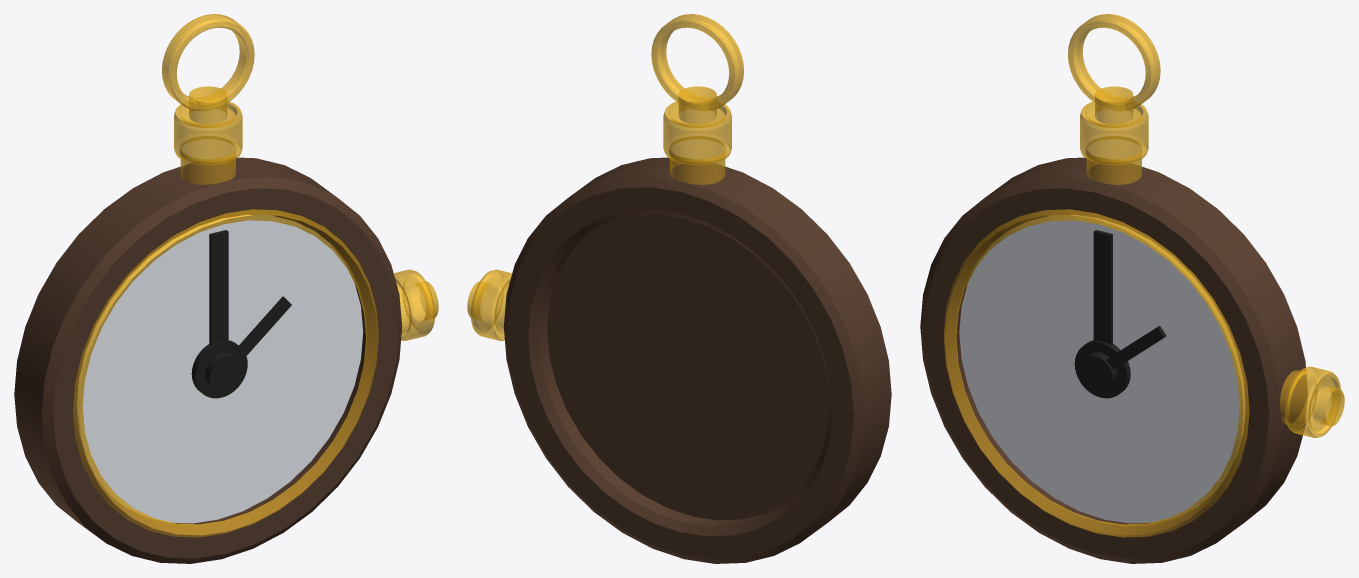
Rendered from relogio.fbx.
The picture shows the model from 3 angles, left to right: view 1: azimuth 30°, elevation 25°; view 2: azimuth 150°, elevation 25°; view 3: azimuth 330°, elevation 25°; orthographic projection.
Visible parts, largest first — view 1: Cylinder, Cylinder_3, Cylinder_1, Cylinder_2_2, Cylinder_2, Plane_2, Cylinder_4_2, Cylinder_4, Plane; view 2: Cylinder, Cylinder_1, Cylinder_2_2, Cylinder_2; view 3: Cylinder, Cylinder_3, Cylinder_1, Cylinder_2_2, Cylinder_2, Plane_2, Cylinder_4_2, Cylinder_4, Plane.
Boxes of the visible parts, x1=… form: Cylinder: x1=14, y1=157, x2=402, y2=563; Cylinder_3: x1=73, y1=209, x2=378, y2=537; Cylinder_1: x1=174, y1=86, x2=242, y2=184; Cylinder_2_2: x1=162, y1=14, x2=254, y2=110; Cylinder_2: x1=393, y1=269, x2=438, y2=341; Plane_2: x1=209, y1=230, x2=228, y2=345; Cylinder_4_2: x1=191, y1=340, x2=247, y2=398; Cylinder_4: x1=205, y1=352, x2=243, y2=391; Plane: x1=231, y1=296, x2=291, y2=361; Cylinder: x1=503, y1=157, x2=891, y2=563; Cylinder_1: x1=663, y1=86, x2=731, y2=184; Cylinder_2_2: x1=651, y1=14, x2=743, y2=110; Cylinder_2: x1=467, y1=269, x2=512, y2=341; Cylinder: x1=920, y1=157, x2=1307, y2=563; Cylinder_3: x1=943, y1=209, x2=1249, y2=537; Cylinder_1: x1=1080, y1=86, x2=1148, y2=184; Cylinder_2_2: x1=1068, y1=14, x2=1160, y2=110; Cylinder_2: x1=1280, y1=366, x2=1344, y2=437; Plane_2: x1=1093, y1=230, x2=1112, y2=345; Cylinder_4_2: x1=1074, y1=340, x2=1130, y2=398; Cylinder_4: x1=1079, y1=352, x2=1117, y2=391; Plane: x1=1106, y1=325, x2=1166, y2=369.
Bounding box in the file's own units: 64.41 × 81.58 × 10.34.
